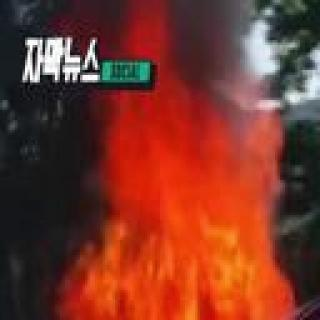fire: (85, 86, 269, 320)
